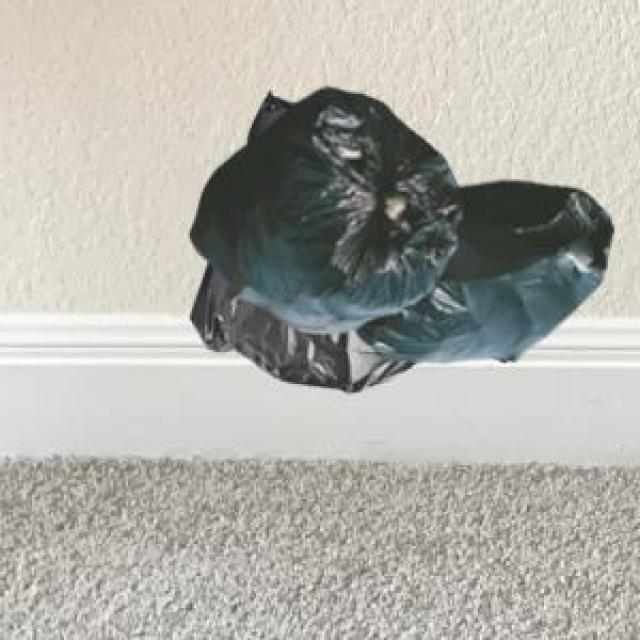Trashbag: (183, 104, 450, 326), (428, 182, 620, 364)
